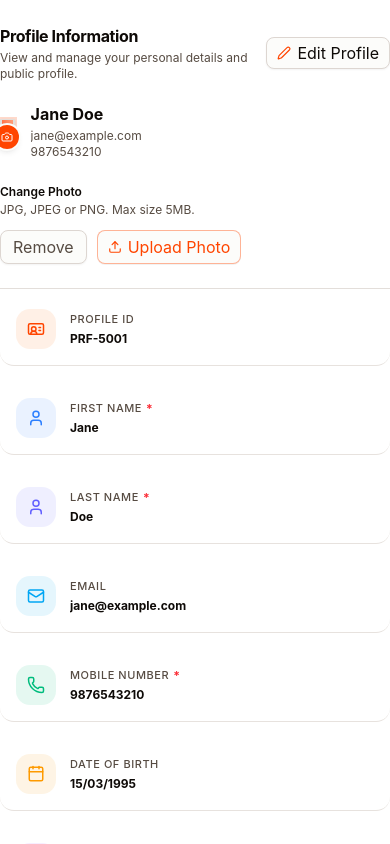
Test: ProfileTab › opens EditProfileDialog when Edit Profile button is clicked
Step 1. Click the button "Edit Profile" → {"x": 328, "y": 53}, box [266,37,389,69]
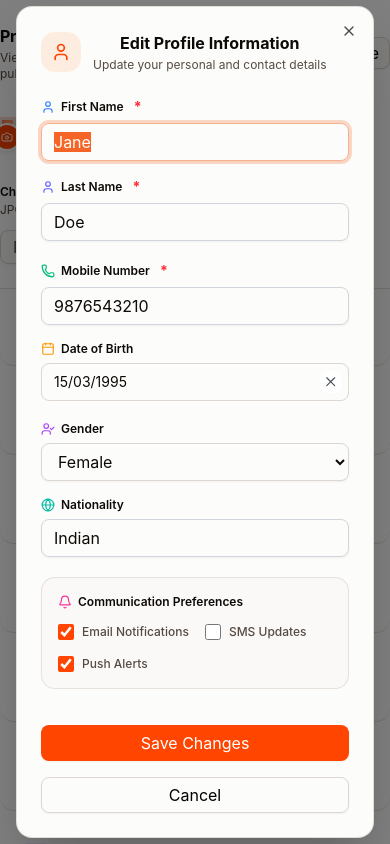
Result: the heading "Edit Profile Information" is shown at [120,33,300,53]
